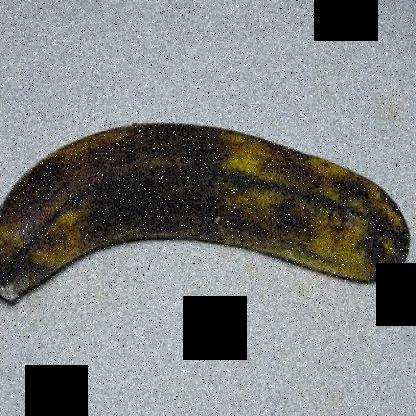overripe: (1, 96, 415, 343)
